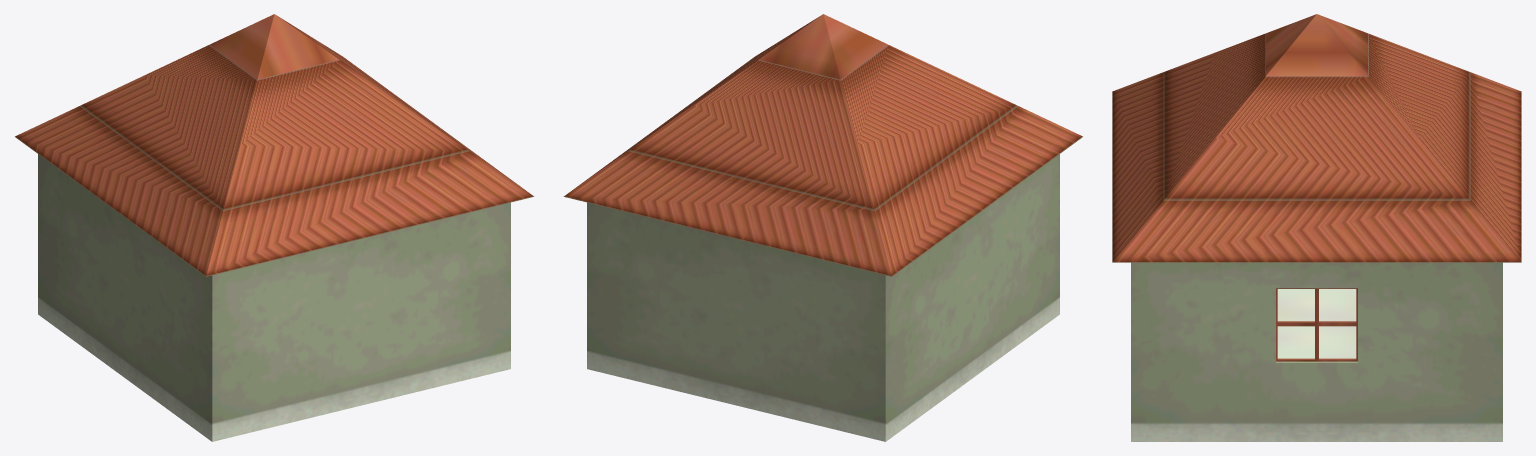
File: introUpdate.fbx
The picture shows the model from 3 angles, left to right: view 1: azimuth 30°, elevation 25°; view 2: azimuth 150°, elevation 25°; view 3: azimuth 270°, elevation 25°; orthographic projection. The views are drawn at different scales.
Visible parts, largest first — view 1: wals; view 2: wals; view 3: wals.
Part boxes in pixels (x1,y1,x2,y2): wals: (15, 14, 534, 441); wals: (563, 14, 1082, 441); wals: (1112, 14, 1521, 441).
Size of the model in its own units: 675 by 644 by 682.
